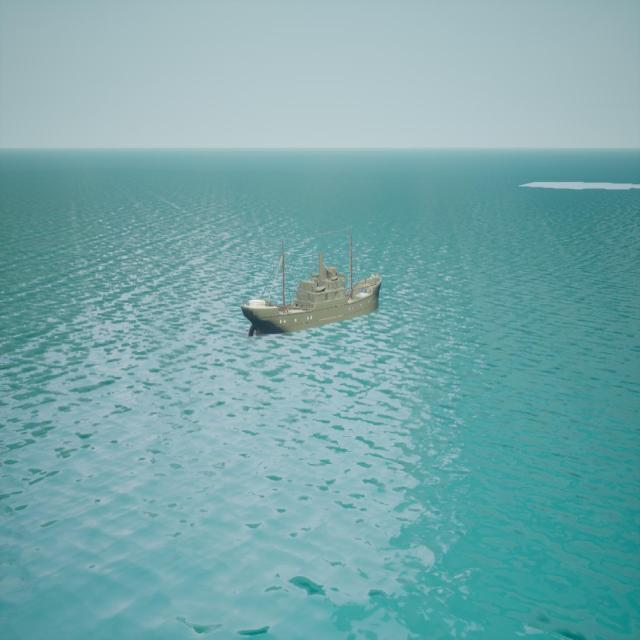fishing ship: (242, 231, 385, 341)
